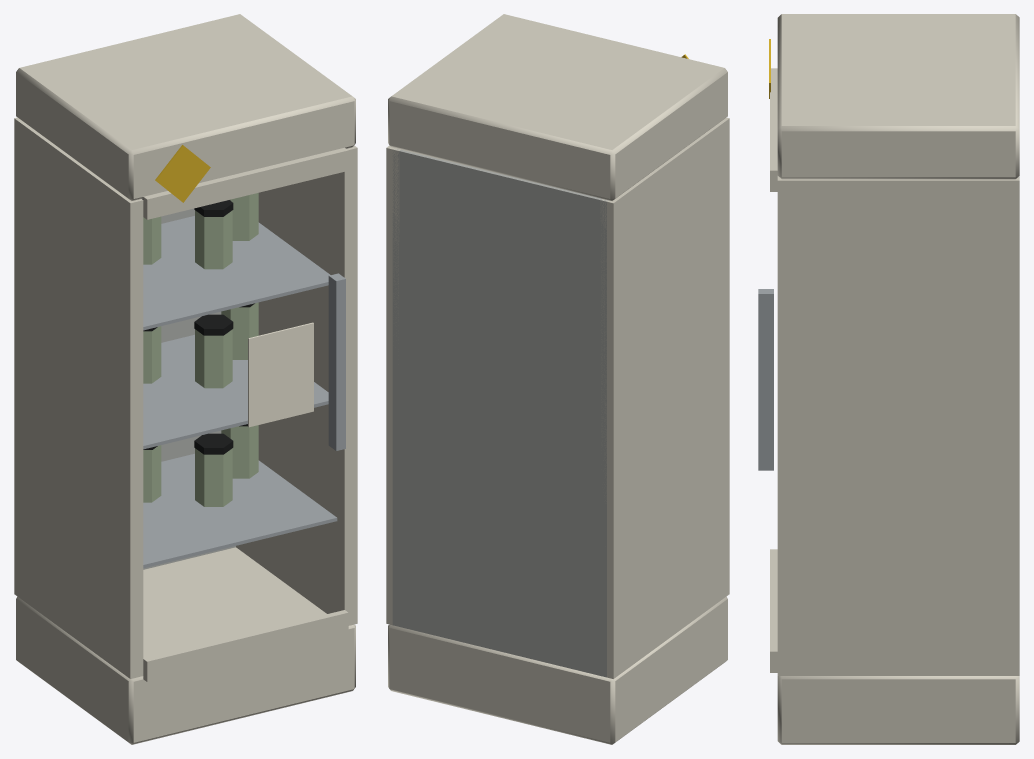
File: specimen_fridge.glb
3 renders of one model, left to right at view 1: azimuth 30°, elevation 25°; view 2: azimuth 150°, elevation 25°; view 3: azimuth 270°, elevation 25°, orthographic. The views are drawn at different scales.
Visible parts, largest first — view 1: Fridge; view 2: Fridge; view 3: Fridge.
Boxes of the visible parts, <box> form: Fridge: <box>14,14,357,744</box>; Fridge: <box>386,14,729,744</box>; Fridge: <box>758,14,1019,744</box>.
Bounding box in the file's own units: 0.7 × 1.75 × 0.67.
